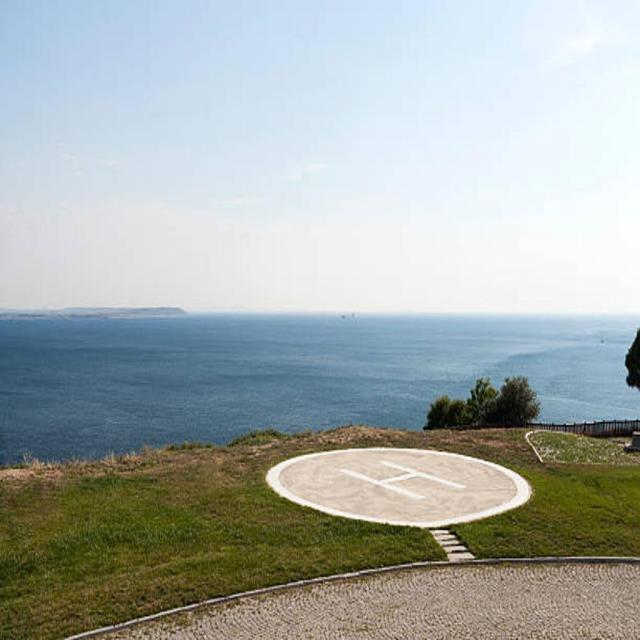helipad: (263, 446, 531, 525)
